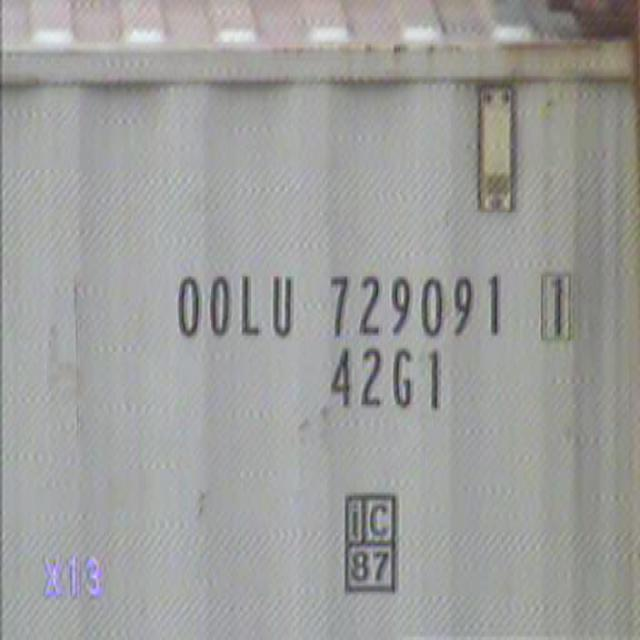ISO: (324, 348, 450, 414)
container_number: (164, 270, 590, 341)
